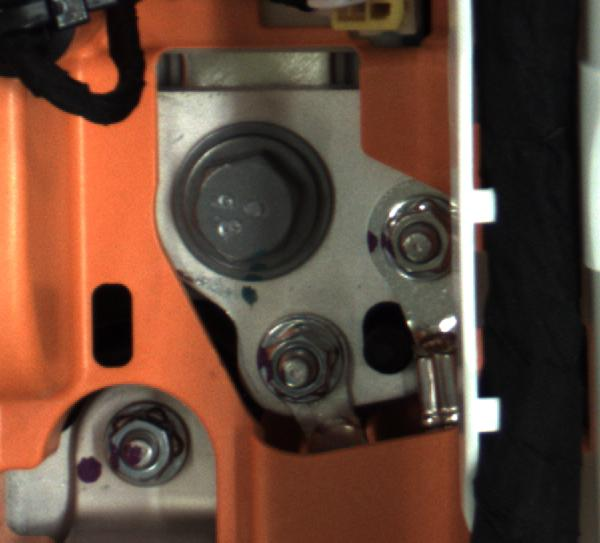nut_b: (155, 124, 340, 272)
screw_s: (93, 398, 217, 494), (253, 305, 357, 402), (382, 184, 465, 280)
